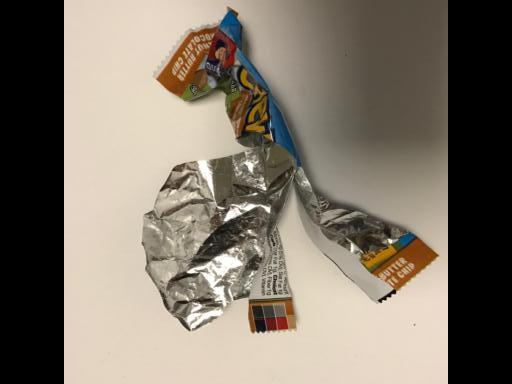trash: (140, 7, 439, 335)
